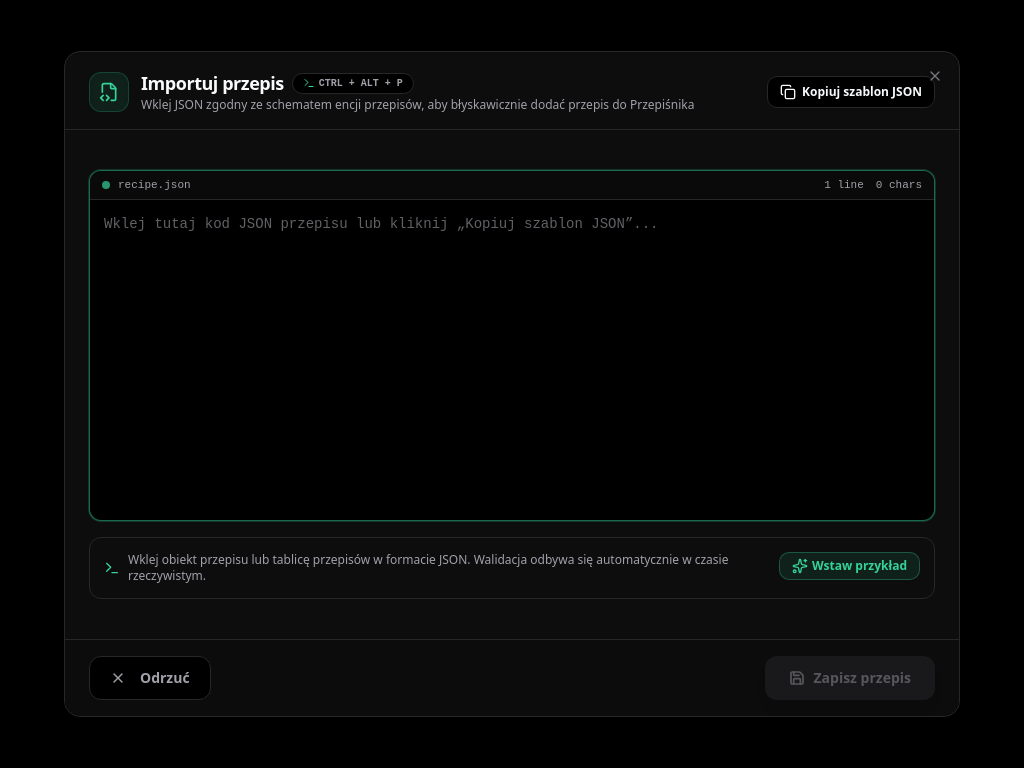
Test: JsonRecipeImportDialog - Component & Real-Time Flow Tests › Flow 04: "Wstaw przykład" inserts valid template and activates Save button
Click the button "Wstaw przykład" at (850, 566), box [779, 552, 920, 580]
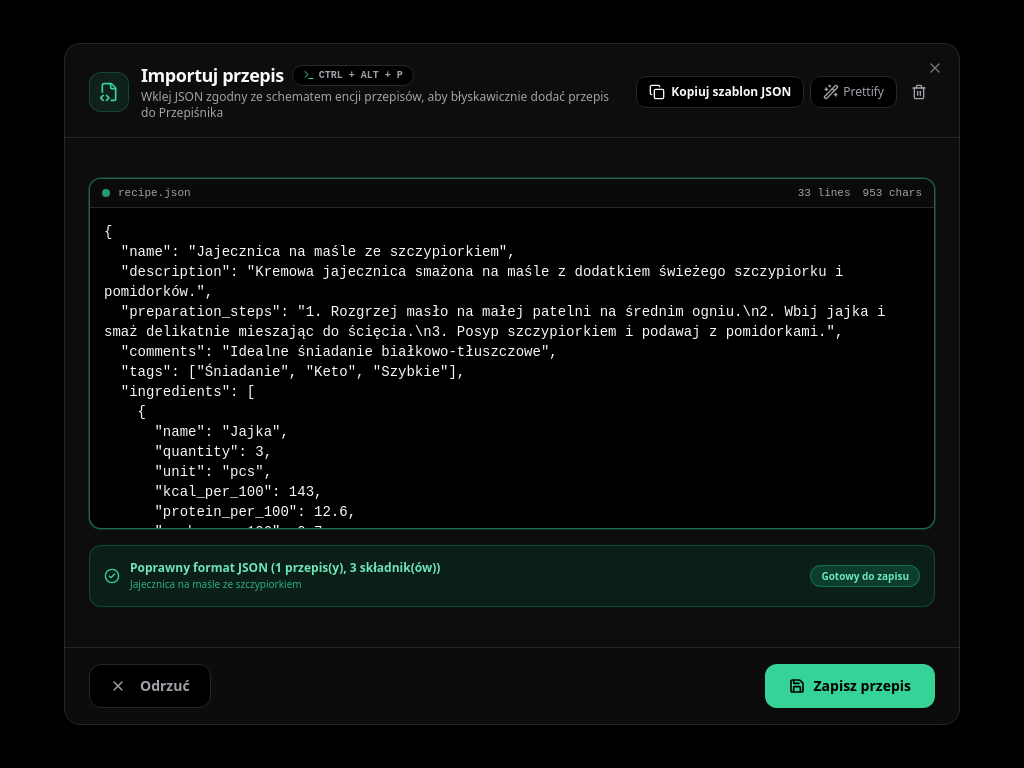
Result: the text "Poprawny format JSON (1 przepis(y), 3 składnik(ów))" is shown at [130, 560, 440, 576]
Result: the text "Gotowy do zapisu" is shown at [810, 565, 920, 587]
Result: the button "Zapisz przepis" is enabled at [766, 664, 935, 708]
